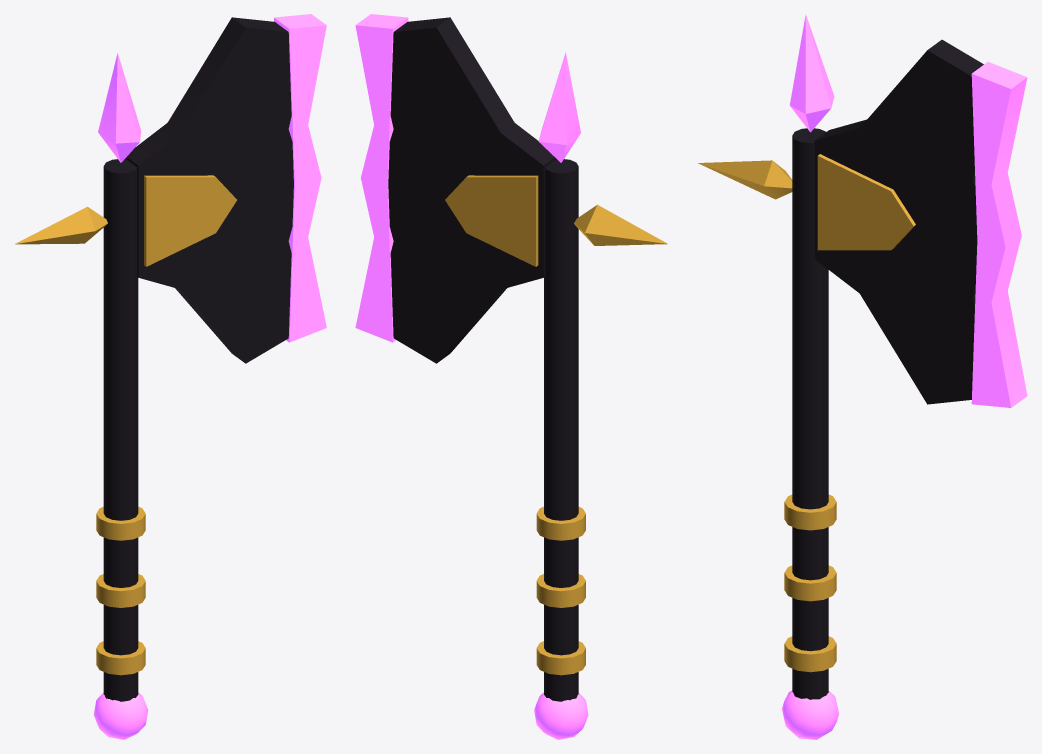
The model's file is arma_machado_t3_crescente_violeta.glb.
3 renders of one model, left to right at view 1: azimuth 30°, elevation 25°; view 2: azimuth 150°, elevation 25°; view 3: azimuth 330°, elevation 25°, orthographic. The views are drawn at different scales.
Parts seen in each view (by area): view 1: arma_machado_t3_crescente_violeta; view 2: arma_machado_t3_crescente_violeta; view 3: arma_machado_t3_crescente_violeta.
Boxes of the visible parts, x1,y1,x2,y2 form: arma_machado_t3_crescente_violeta: (15,14,326,739); arma_machado_t3_crescente_violeta: (355,14,667,739); arma_machado_t3_crescente_violeta: (698,14,1027,739).
Size of the model in its own units: 0.57 by 1.23 by 0.09.
